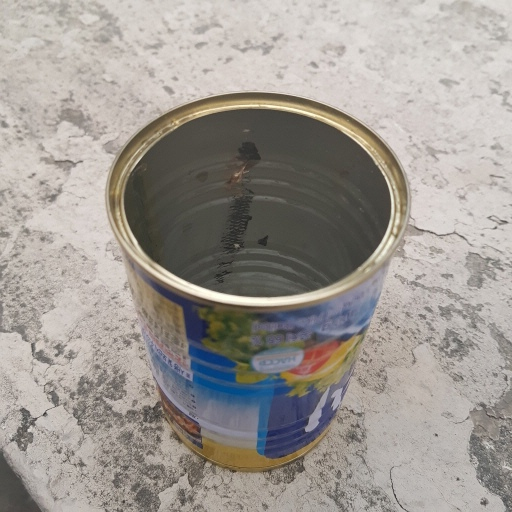Metal_1: (103, 88, 413, 472)
